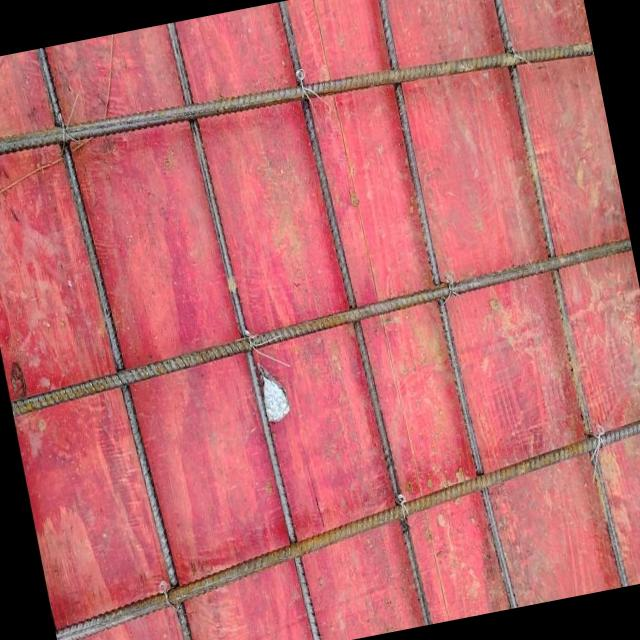ribbed bar: (34, 42, 201, 640), (276, 0, 433, 631), (165, 17, 324, 640), (367, 0, 518, 613), (483, 0, 629, 590)
